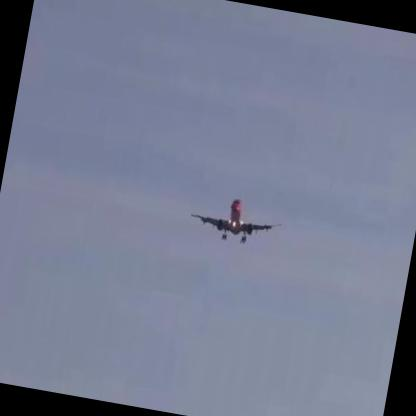plane: (185, 189, 287, 251)
